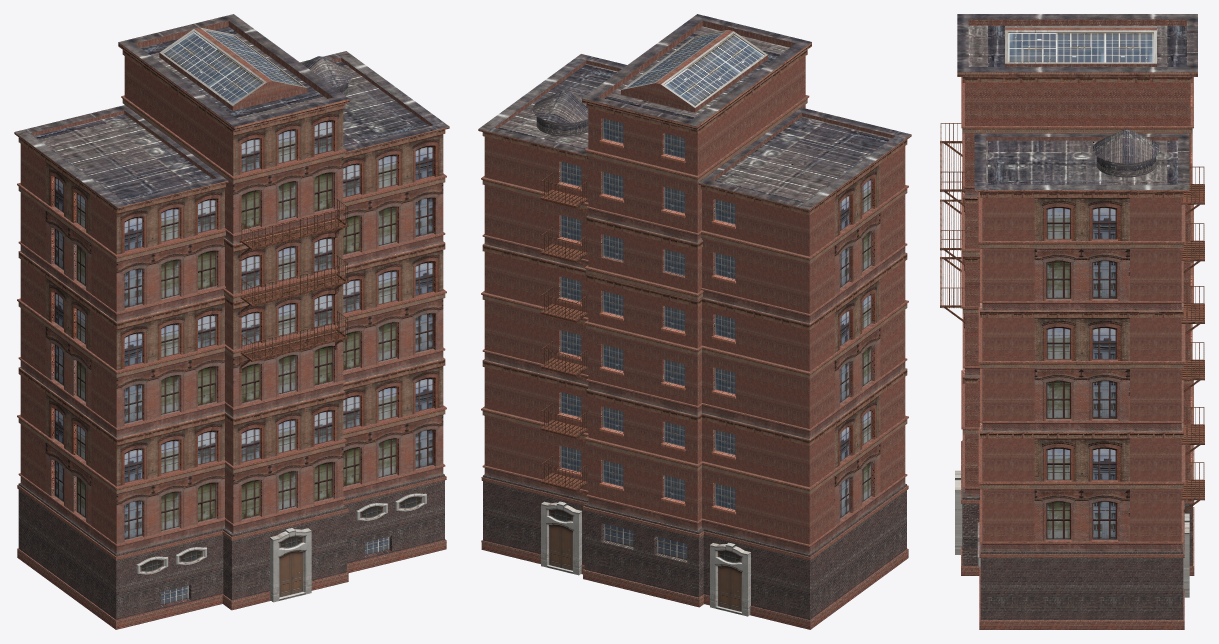
Rendered from Building_A02.obj.
The picture shows the model from 3 angles, left to right: view 1: azimuth 30°, elevation 25°; view 2: azimuth 150°, elevation 25°; view 3: azimuth 270°, elevation 25°; orthographic projection. The views are drawn at different scales.
Visible parts, largest first — view 1: K_Building_A02_00; view 2: K_Building_A02_00; view 3: K_Building_A02_00.
Part boxes in pixels (x1=…): K_Building_A02_00: x1=14, y1=14, x2=449, y2=629; K_Building_A02_00: x1=478, y1=14, x2=911, y2=629; K_Building_A02_00: x1=940, y1=14, x2=1204, y2=629.
Size of the model in its own units: 17.78 by 25.52 by 11.84.
